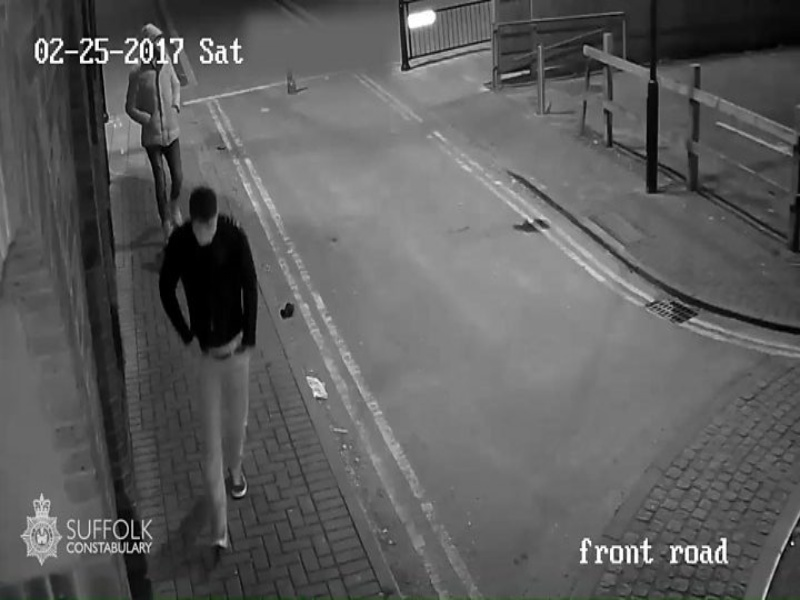person: (151, 169, 268, 551), (126, 22, 189, 235)
